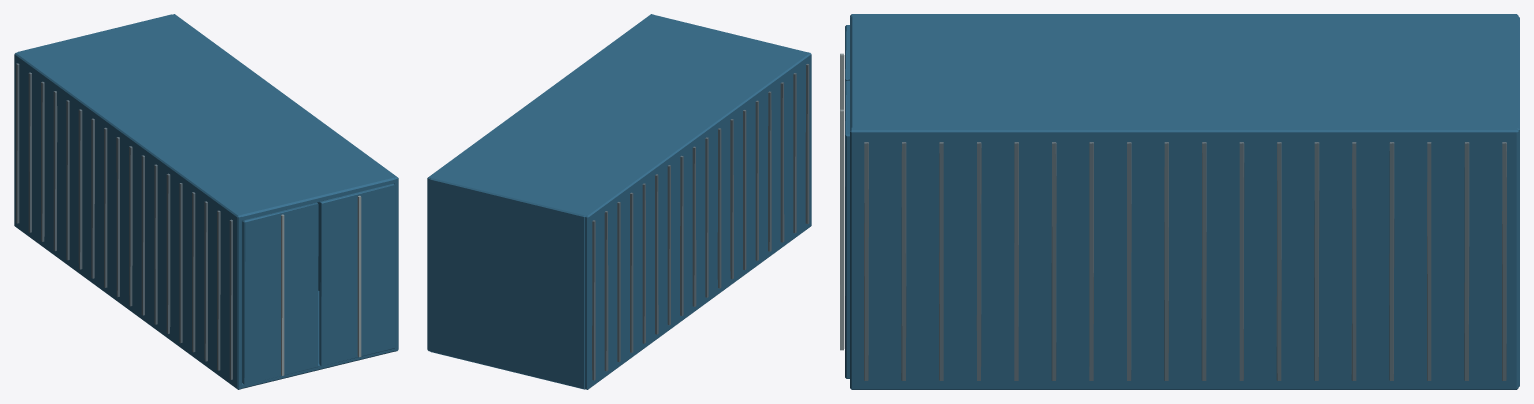
Rendered from props-container.lod1.glb.
3 renders of one model, left to right at view 1: azimuth 30°, elevation 25°; view 2: azimuth 150°, elevation 25°; view 3: azimuth 270°, elevation 25°, orthographic. The views are drawn at different scales.
Parts seen in each view (by area): view 1: props-container__body, props-container__door_1, props-container__door_-1; view 2: props-container__body; view 3: props-container__body, props-container__door_1.
Boxes of the visible parts, x1,y1,x2,y2 form: props-container__body: (14, 14, 398, 389); props-container__door_1: (319, 183, 395, 366); props-container__door_-1: (242, 202, 318, 384); props-container__body: (427, 14, 811, 389); props-container__body: (850, 14, 1519, 389); props-container__door_1: (840, 81, 849, 378).
Size of the model in its own units: 2.58 by 2.6 by 6.16.
